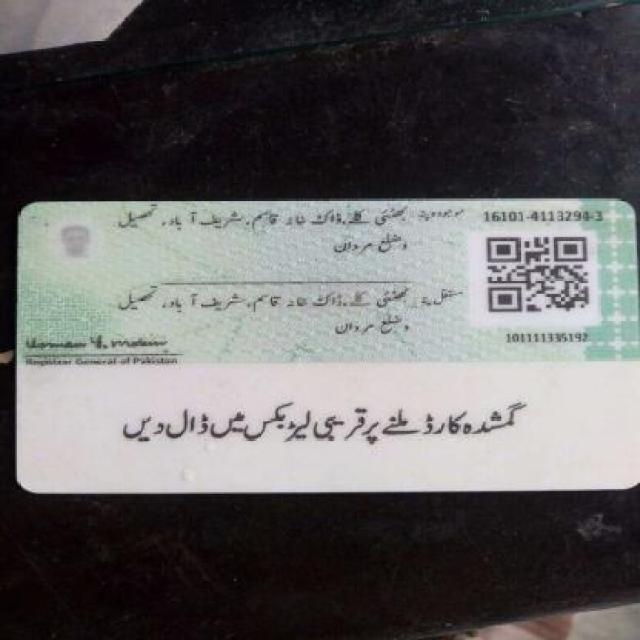Back: (8, 194, 634, 495)
